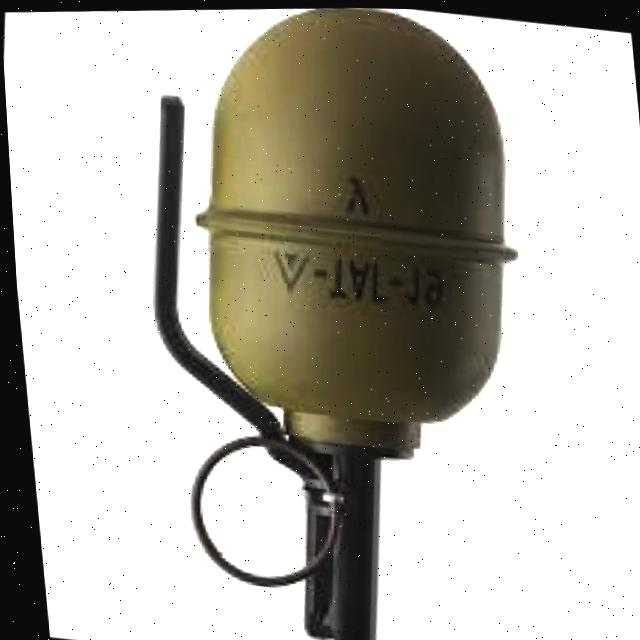grenade: (77, 1, 576, 640)
